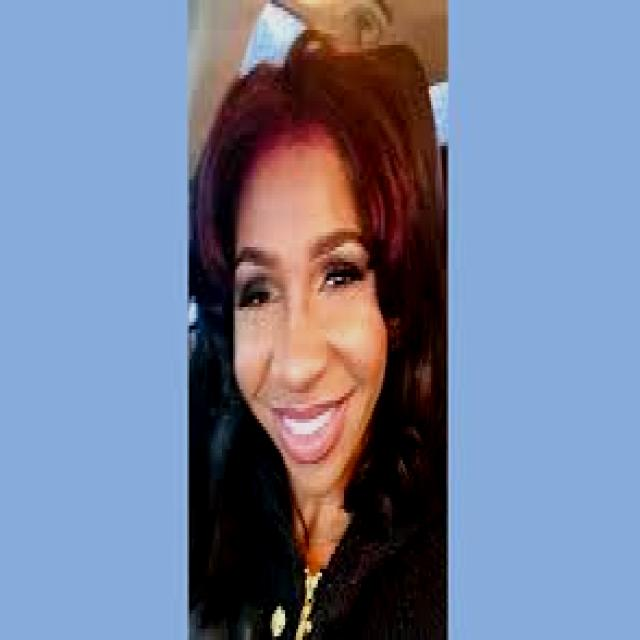normal_face: (190, 33, 436, 542)
